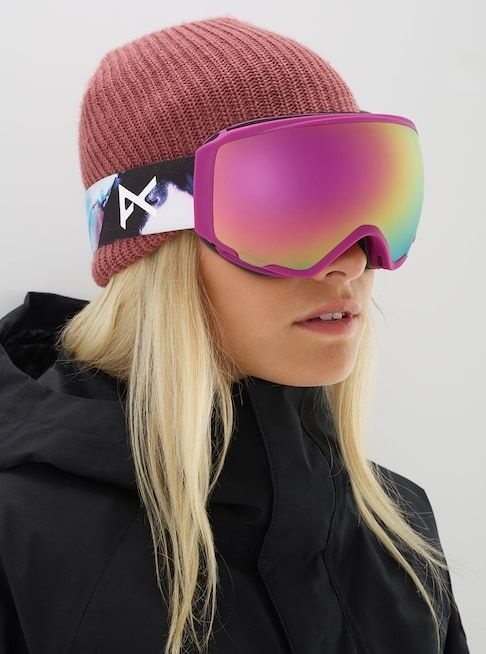without_mask: (98, 110, 413, 393)
